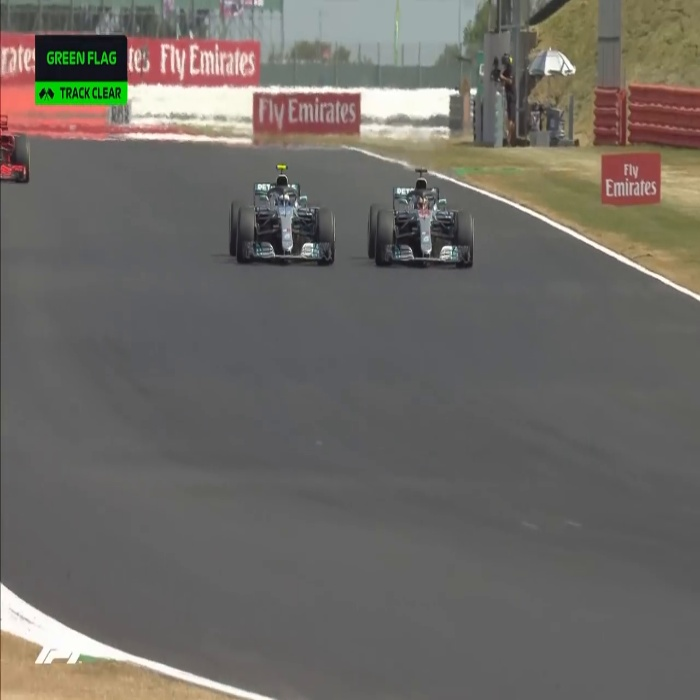f1_car: (357, 160, 490, 283), (215, 153, 344, 278)
